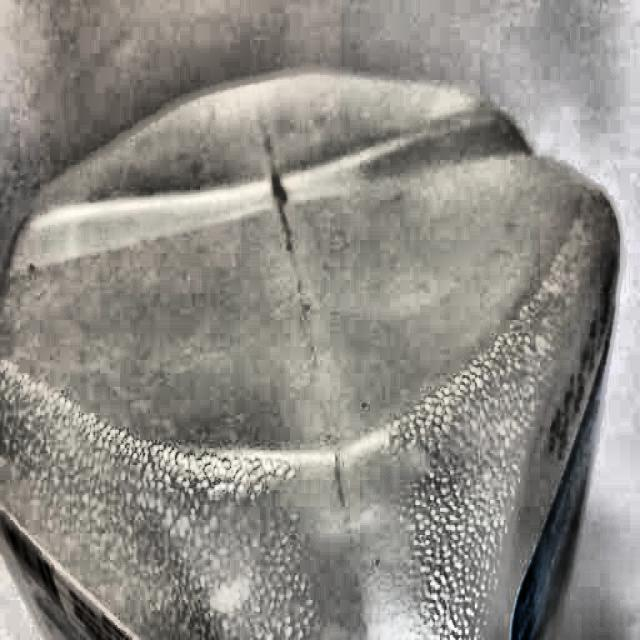plastic: (0, 83, 614, 635)
